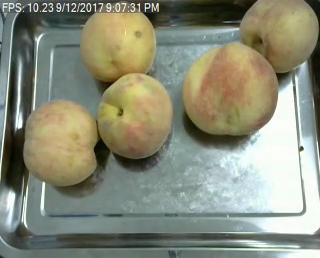Peach: (183, 42, 278, 136), (21, 98, 97, 191), (98, 72, 172, 159), (81, 4, 157, 82), (239, 0, 319, 74)
